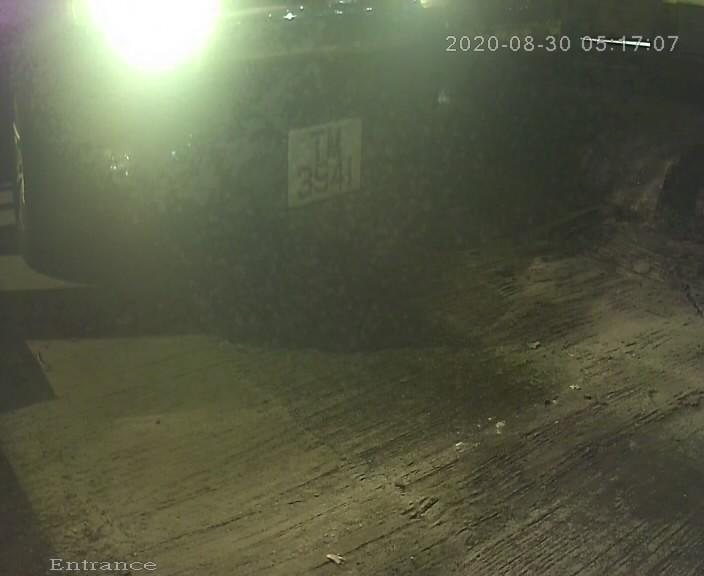Car: (4, 3, 639, 376)
License Plate: (268, 96, 381, 214)
